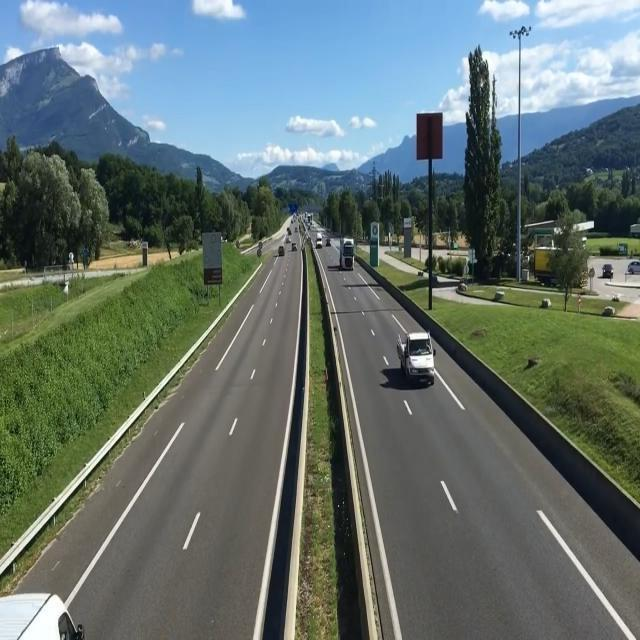Car: (398, 332, 438, 384)
Truck: (339, 238, 356, 273), (316, 232, 323, 250)
